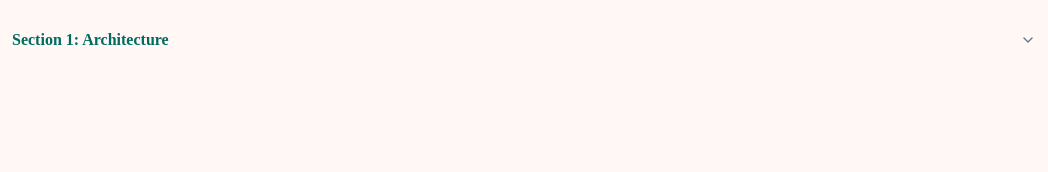
Test: Accordion Component › renders accordion trigger and toggles content on click
Click the button "Section 1: Architecture" at (90, 40), box [12,12,1036,68]
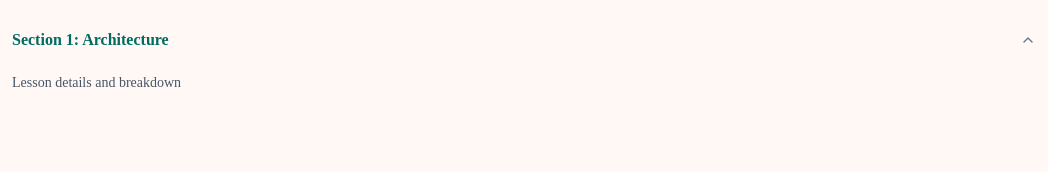
Check: the text "Lesson details and breakdown" is shown, box [12,75,181,90]
